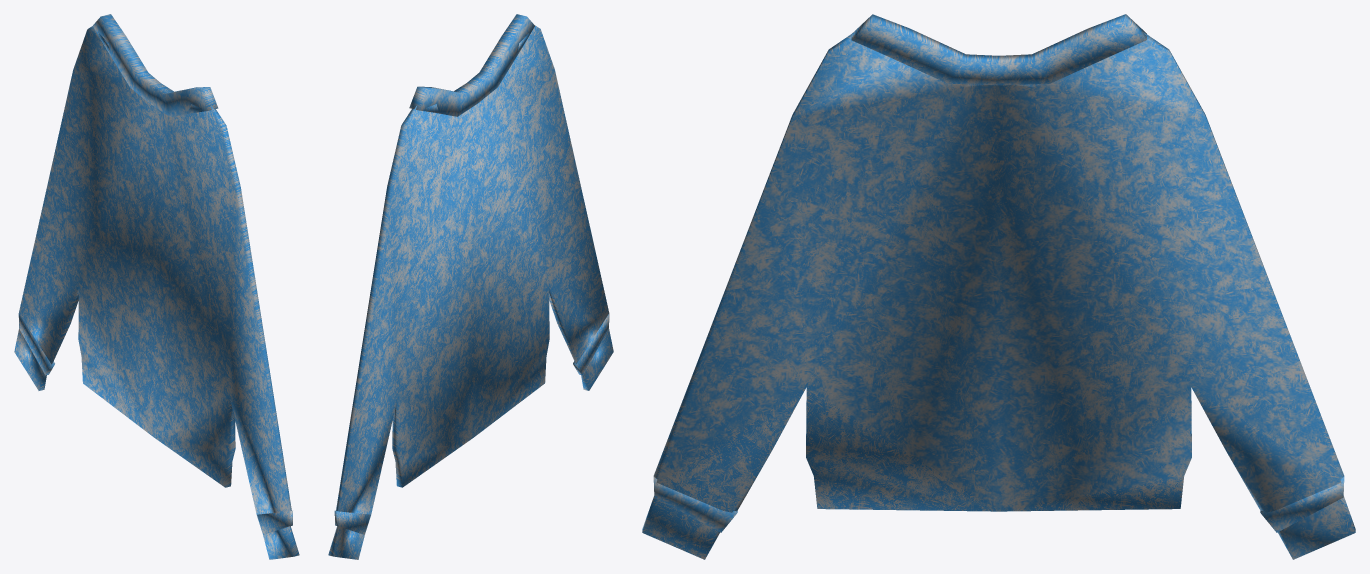
Rendered from sweater2.fbx.
The picture shows the model from 3 angles, left to right: view 1: azimuth 30°, elevation 25°; view 2: azimuth 150°, elevation 25°; view 3: azimuth 270°, elevation 25°; orthographic projection. The views are drawn at different scales.
Parts seen in each view (by area): view 1: sweater2; view 2: sweater2; view 3: sweater2.
Part boxes in pixels (bbox=[...]): sweater2: bbox=[14, 14, 299, 559]; sweater2: bbox=[328, 14, 613, 559]; sweater2: bbox=[642, 14, 1355, 559].
Size of the model in its own units: 0.085 by 2.83 by 3.39.
